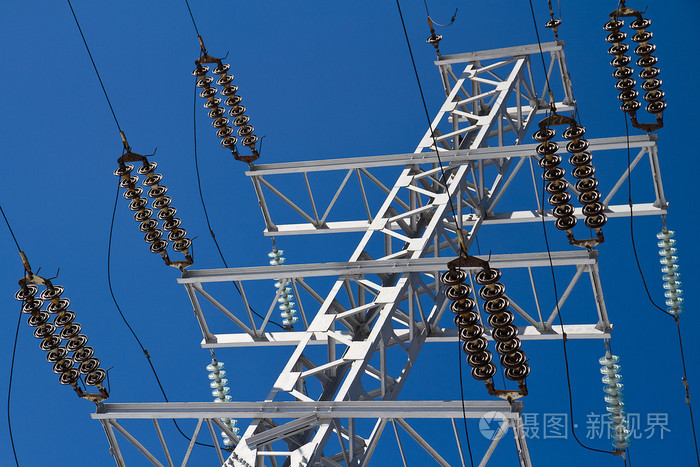insulator: (443, 267, 530, 381), (14, 287, 105, 391), (533, 125, 606, 231), (118, 162, 193, 255), (601, 17, 665, 116), (193, 63, 259, 150), (597, 353, 630, 449), (204, 362, 240, 445), (658, 227, 683, 318), (269, 249, 297, 325)
